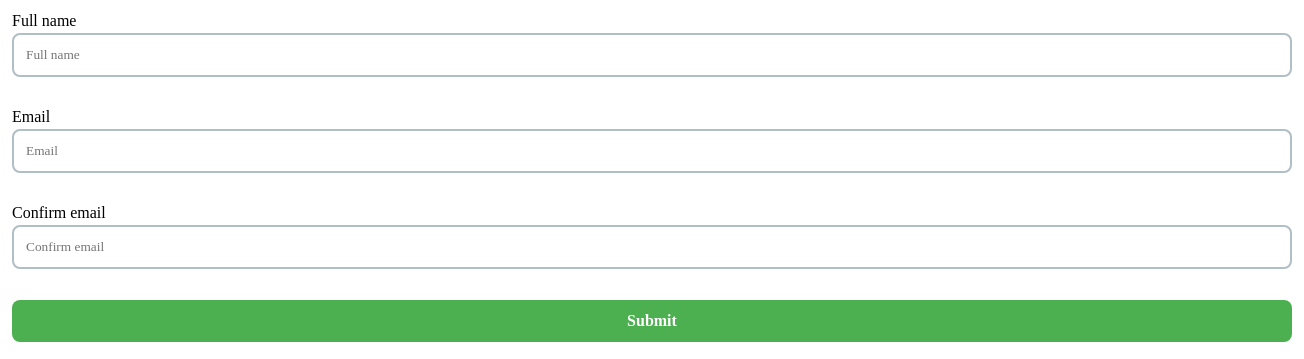
InviteModalForm › shows email pattern validation
In the field with placeholder "Email": (652, 151) [12,129,1292,173], type "wrongemailformat"
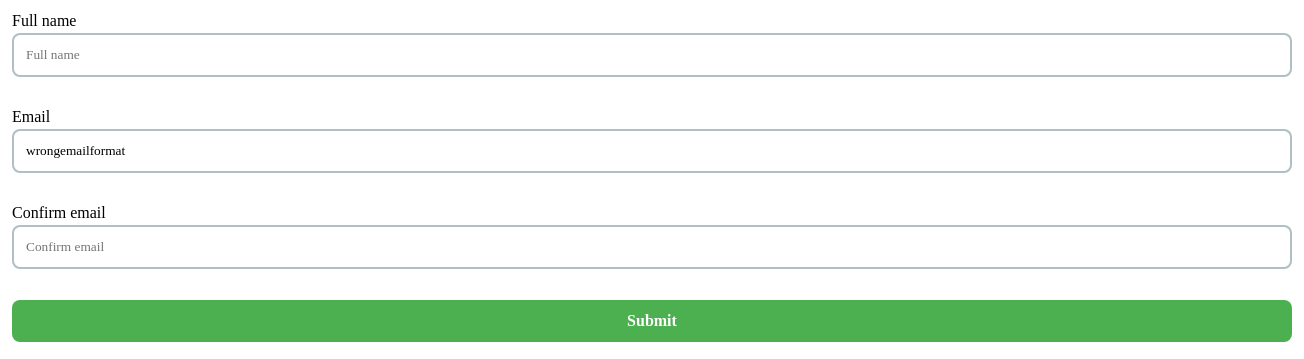
In the field with placeholder "Confirm email": (652, 247) [12,225,1292,269], type "wrongemailformat"
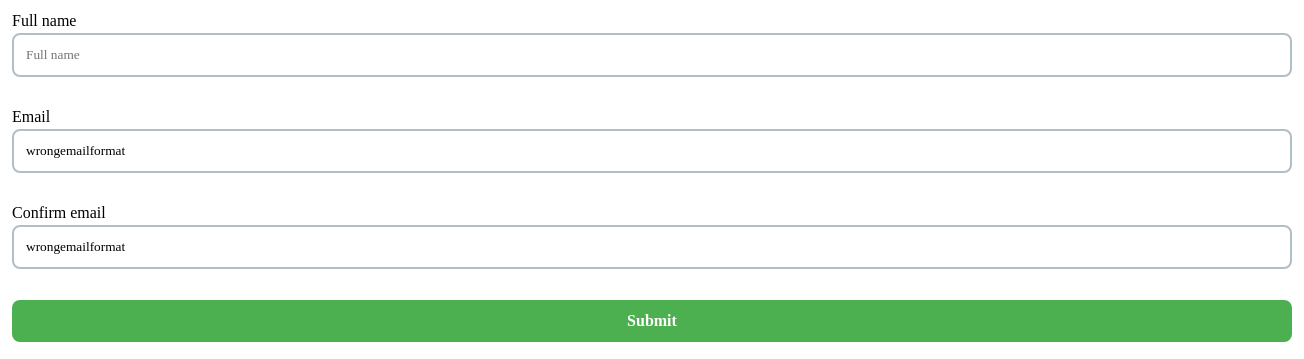
Click the button "Submit": (652, 321) [12,300,1292,342]
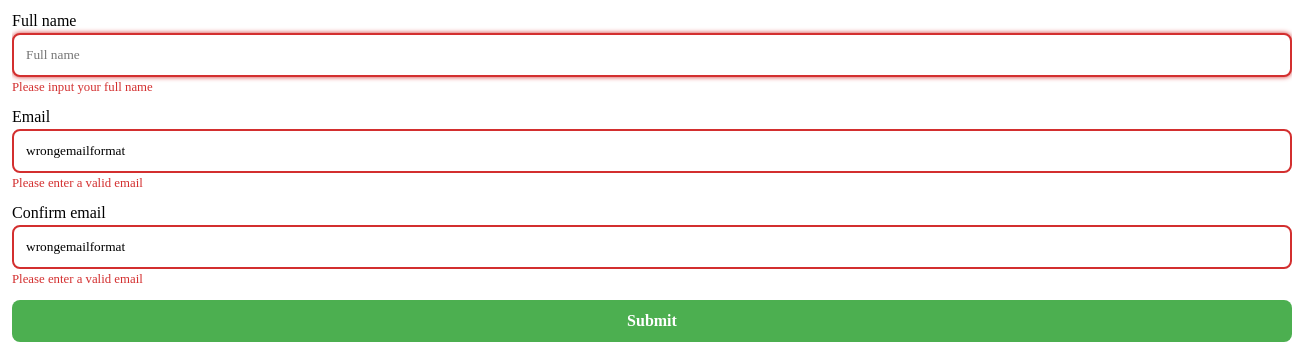
Now the text "Please enter a valid email" is shown 2 times, box [12,176,143,190]; [12,272,143,286]
